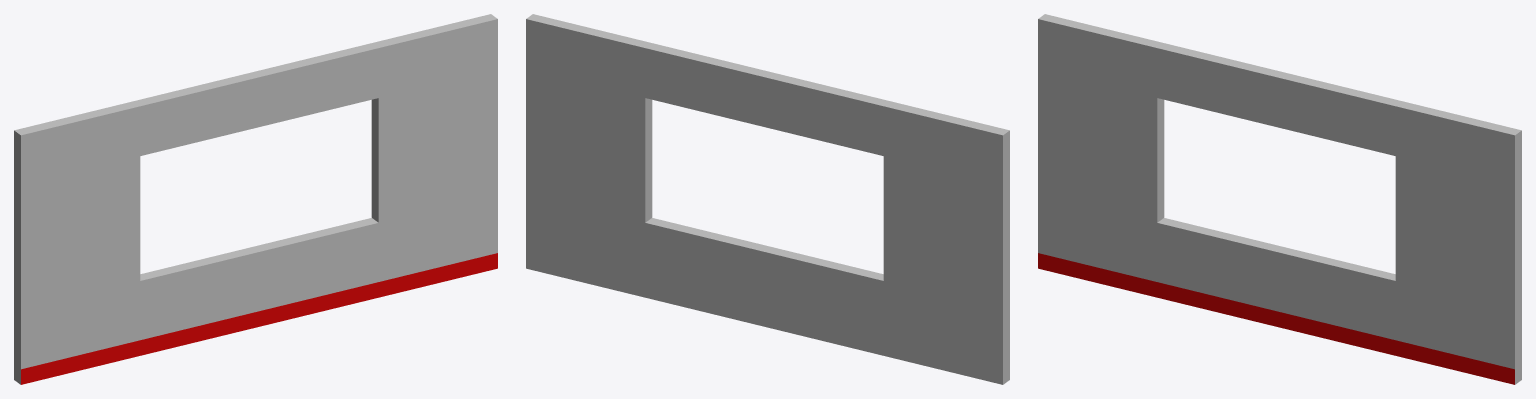
The model's file is Wall_01_Snaps014.fbx.
3 renders of one model, left to right at view 1: azimuth 30°, elevation 25°; view 2: azimuth 150°, elevation 25°; view 3: azimuth 330°, elevation 25°, orthographic.
Parts seen in each view (by area): view 1: Wall_01; view 2: Wall_01; view 3: Wall_01.
Boxes of the visible parts, x1,y1,x2,y2 form: Wall_01: (14, 14, 497, 384); Wall_01: (526, 14, 1009, 384); Wall_01: (1038, 14, 1521, 384).
Bounding box in the file's own units: 800 × 400 × 20.
